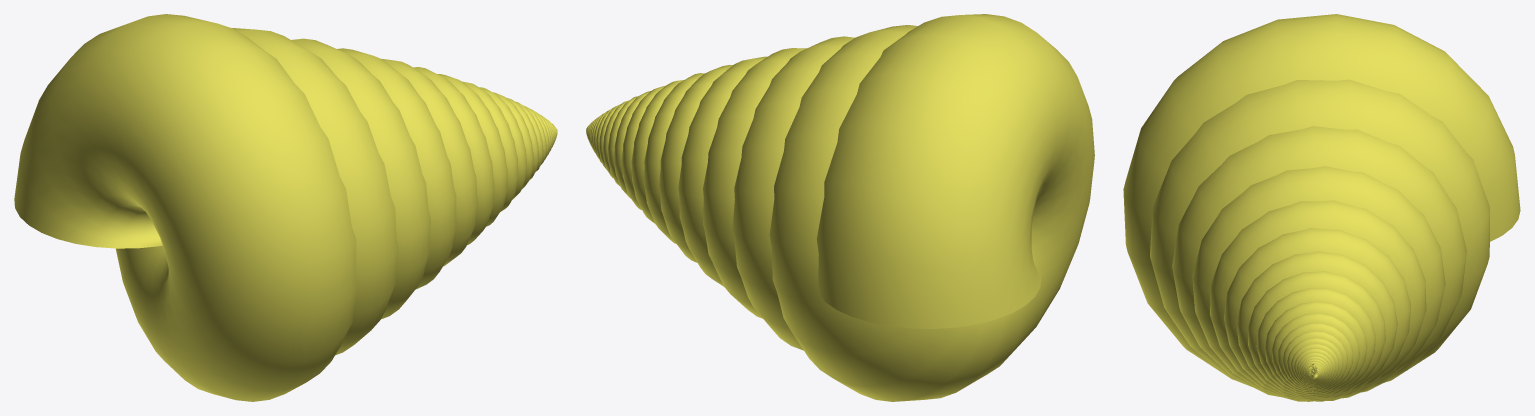
3 views of the same model, side by side, from view 1: azimuth 30°, elevation 25°; view 2: azimuth 150°, elevation 25°; view 3: azimuth 270°, elevation 25° (orthographic). The views are drawn at different scales.
Parts seen in each view (by area): view 1: t19; view 2: t19; view 3: t19.
Boxes of the visible parts, left/top/right/bottom form: t19: left=14, top=14, right=557, bottom=401; t19: left=586, top=14, right=1094, bottom=401; t19: left=1123, top=14, right=1520, bottom=401.
Size of the model in its own units: 500 by 358 by 371.
